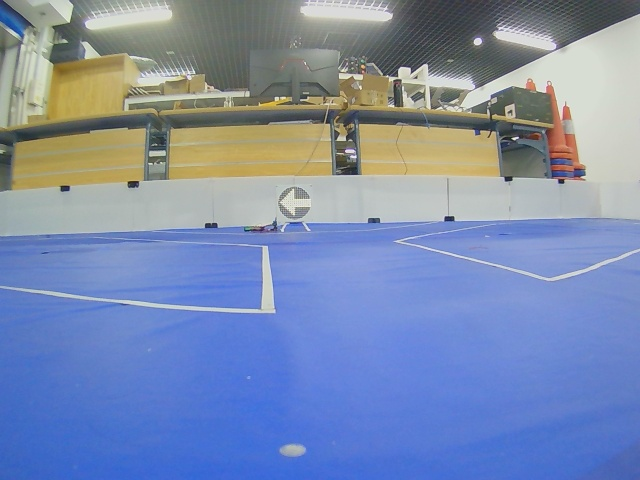left_yellow: (278, 186, 311, 220)
